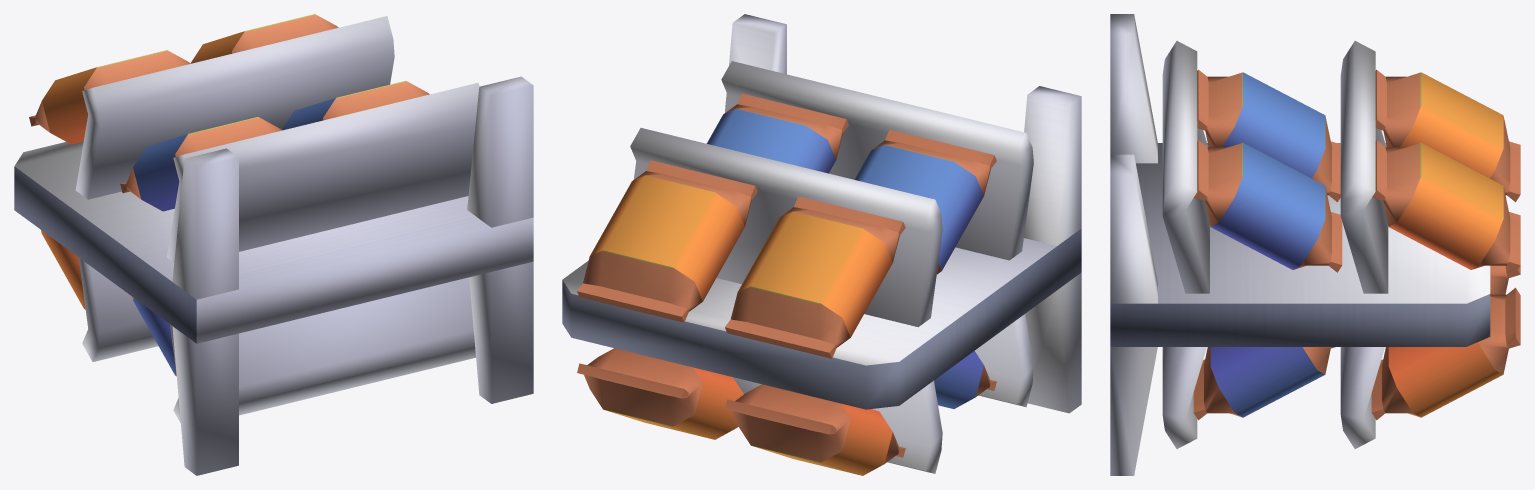
The model's file is shelf-bags.obj.
3 renders of one model, left to right at view 1: azimuth 30°, elevation 25°; view 2: azimuth 150°, elevation 25°; view 3: azimuth 270°, elevation 25°, orthographic. The views are drawn at different scales.
Visible parts, largest first — view 1: shelf-bags; view 2: shelf-bags; view 3: shelf-bags.
Boxes of the visible parts, box(x1,y1,x2,y2) form: shelf-bags: box(14, 14, 533, 475); shelf-bags: box(562, 14, 1081, 475); shelf-bags: box(1110, 14, 1520, 475).
Bounding box in the file's own units: 0.8 × 0.7 × 0.8634.
